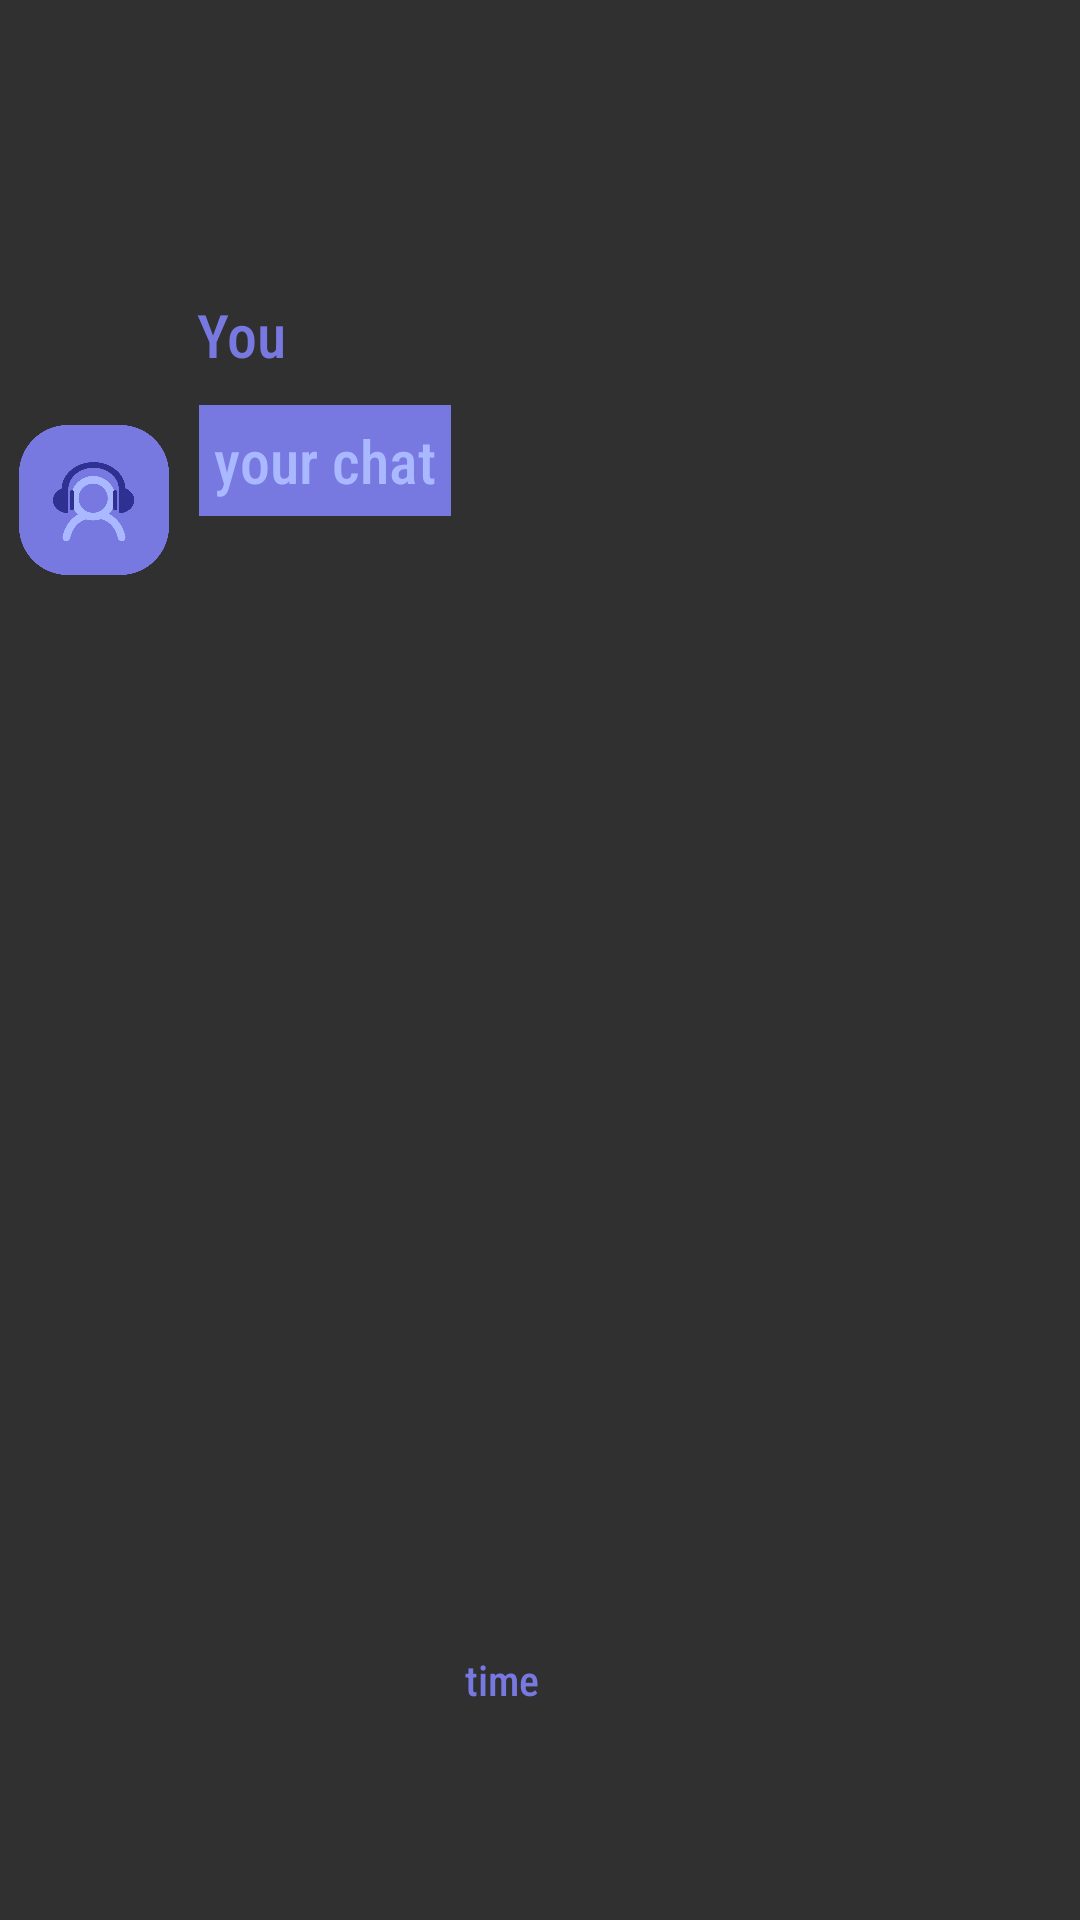

Named icons in this screenshot (1080w x 1920h) and their bounding boxes, {"x1": x1, "y1": y1, "x2": x2, "y2": y2}:
chat profile: {"x1": 19, "y1": 425, "x2": 169, "y2": 575}
